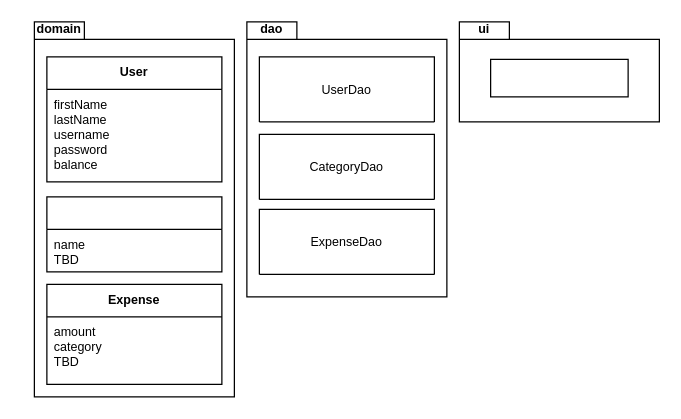
Some shapes in this 681 by 419 pixel diagram are drawn without their labels. The shapes that lost their labels are listed below. From the top down, each one's box as (x1, y1, x2, y2) in pixels, then its label:
(489, 58, 628, 97): TUI
(46, 196, 222, 272): Category
